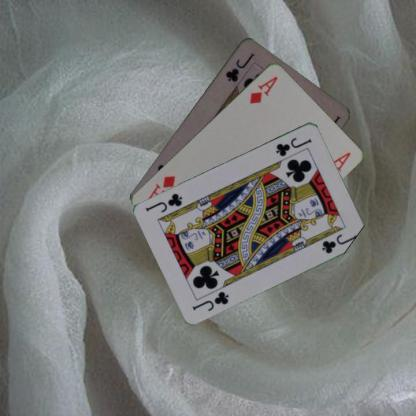Ad: (247, 73, 279, 105)
Jc: (222, 50, 256, 83), (273, 134, 313, 158), (190, 288, 230, 312)
